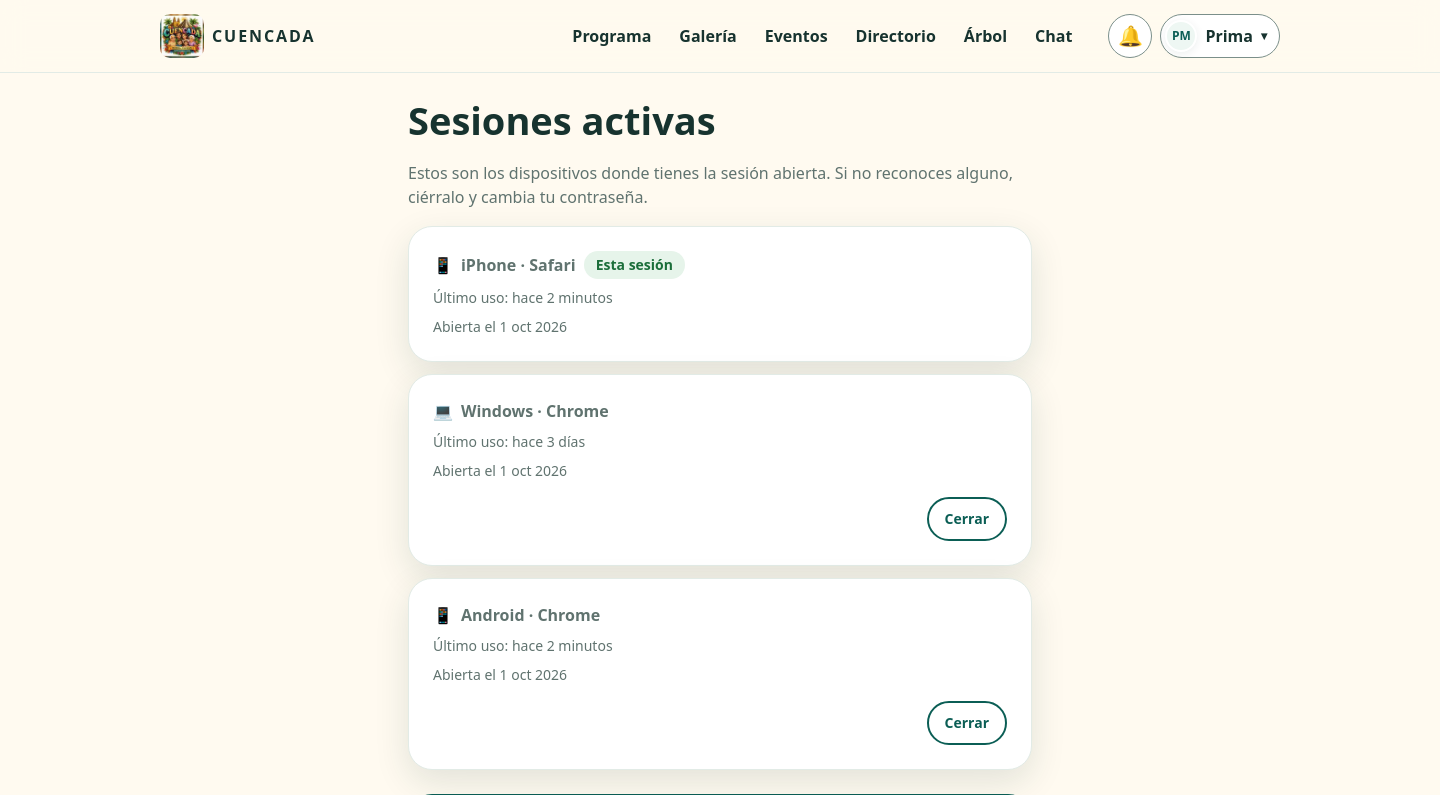
Test case: SessionsPage › shows the server message when revoking fails
Click the button with aria-label "Cerrar la sesión de Windows · Chrome" at (967, 519), box [927,497,1007,541]
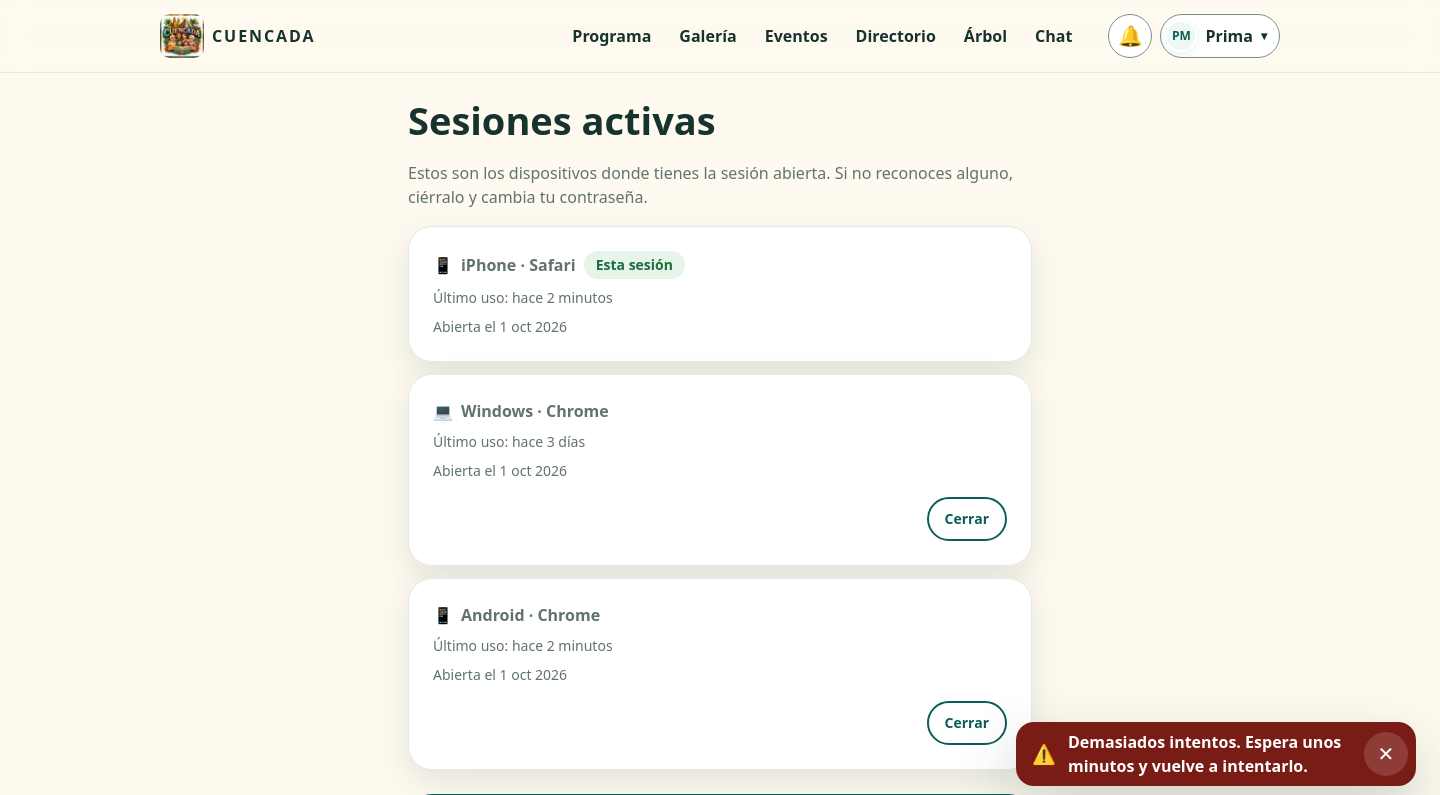
Now the text "Demasiados intentos. Espera unos minutos y vuelve a intentarlo." is shown, box [1068,730,1352,778]
